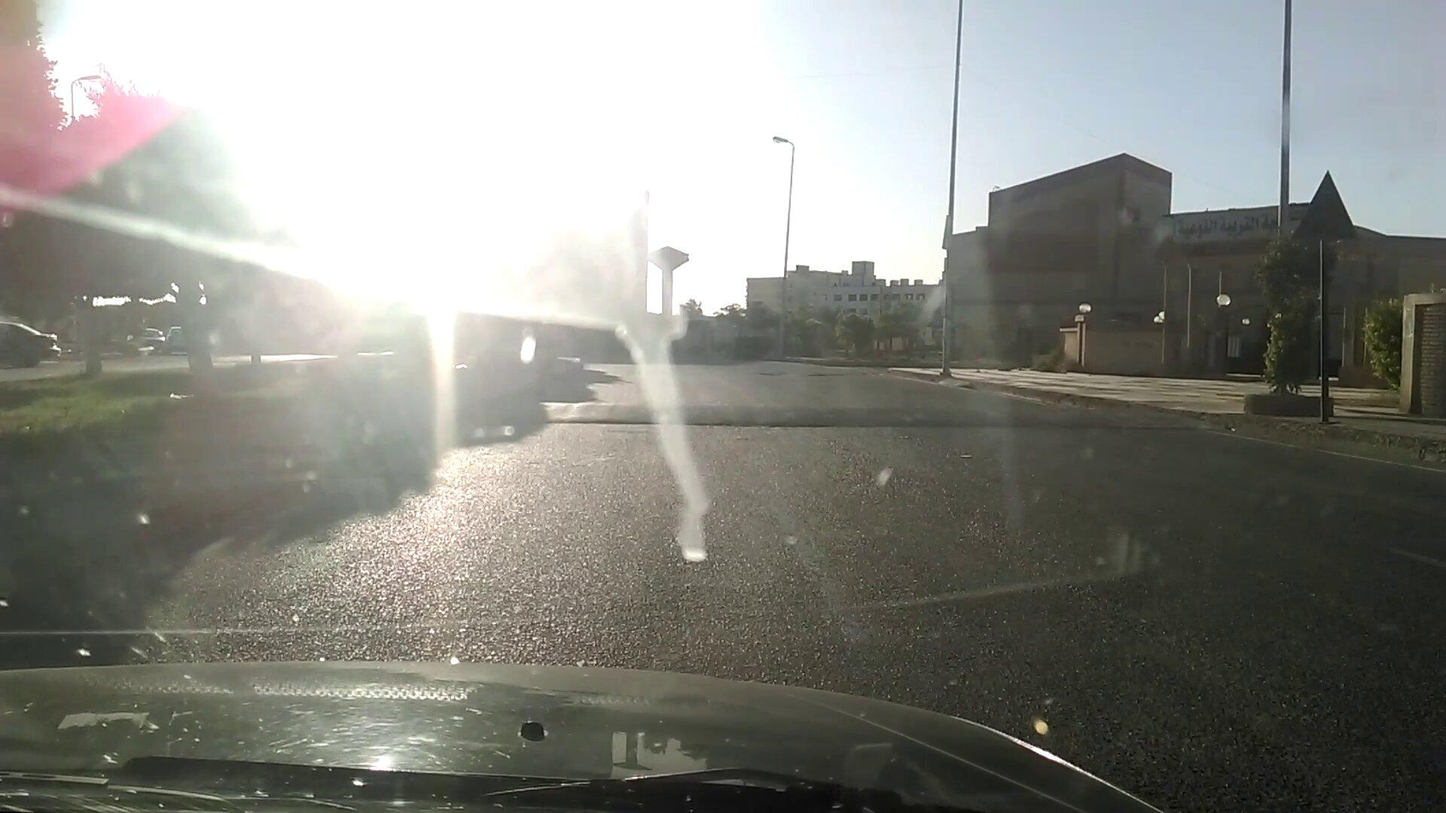Bump: (542, 395, 1182, 431)
